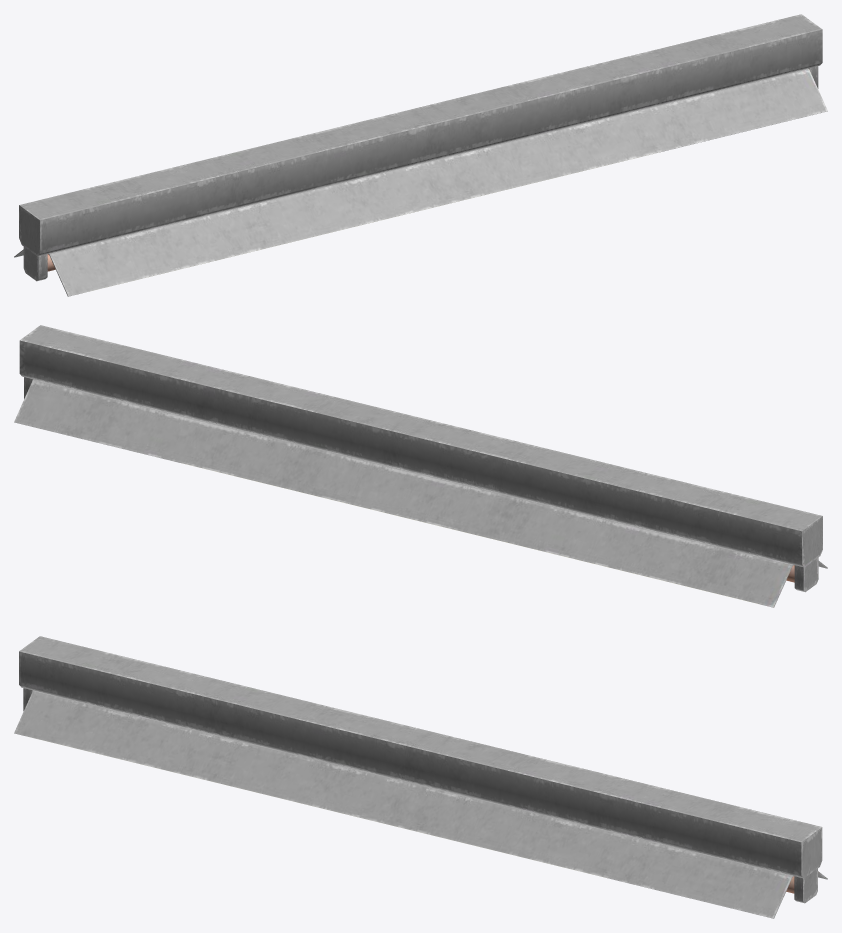
The model's file is SM_Light_Tube_01.glb.
The picture shows the model from 3 angles, top to bottom: view 1: azimuth 30°, elevation 25°; view 2: azimuth 150°, elevation 25°; view 3: azimuth 330°, elevation 25°; orthographic projection.
Parts seen in each view (by area): view 1: SM_Light_Tube_01; view 2: SM_Light_Tube_01; view 3: SM_Light_Tube_01.
Part boxes in pixels (x1,y1,x2,y2): SM_Light_Tube_01: [14, 14, 827, 296]; SM_Light_Tube_01: [14, 325, 827, 607]; SM_Light_Tube_01: [14, 636, 827, 918].
Size of the model in its own units: 1.25 by 0.1032 by 0.1509.
Materials: 1 (1 with a texture image).
